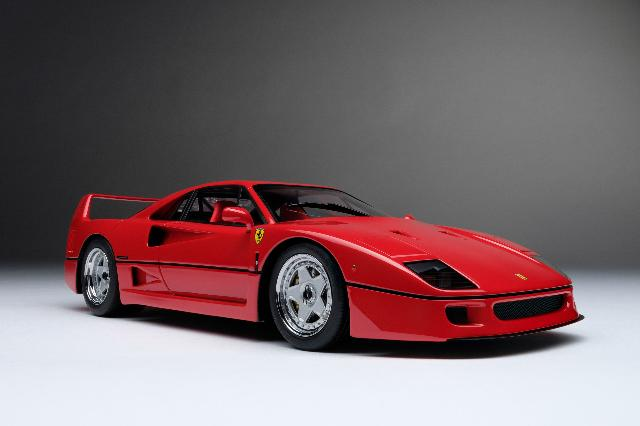ferrari: (64, 180, 586, 350)
